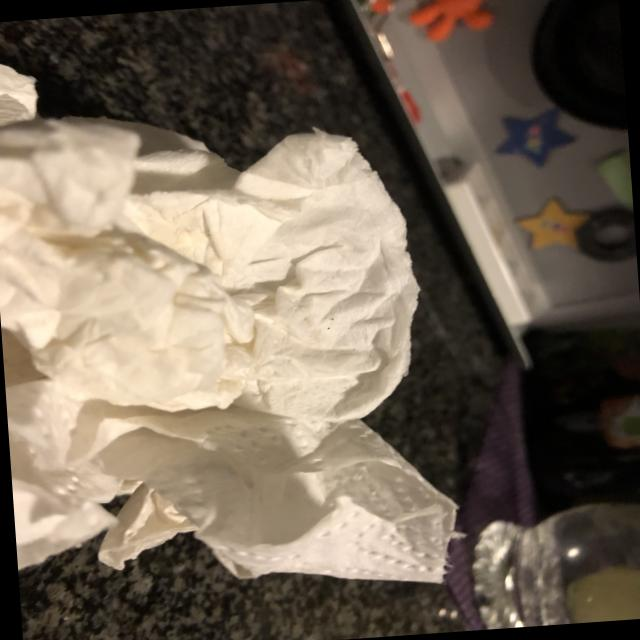organic waste: (0, 26, 473, 613)
